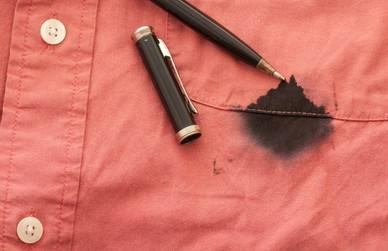gun: (238, 81, 337, 148)
